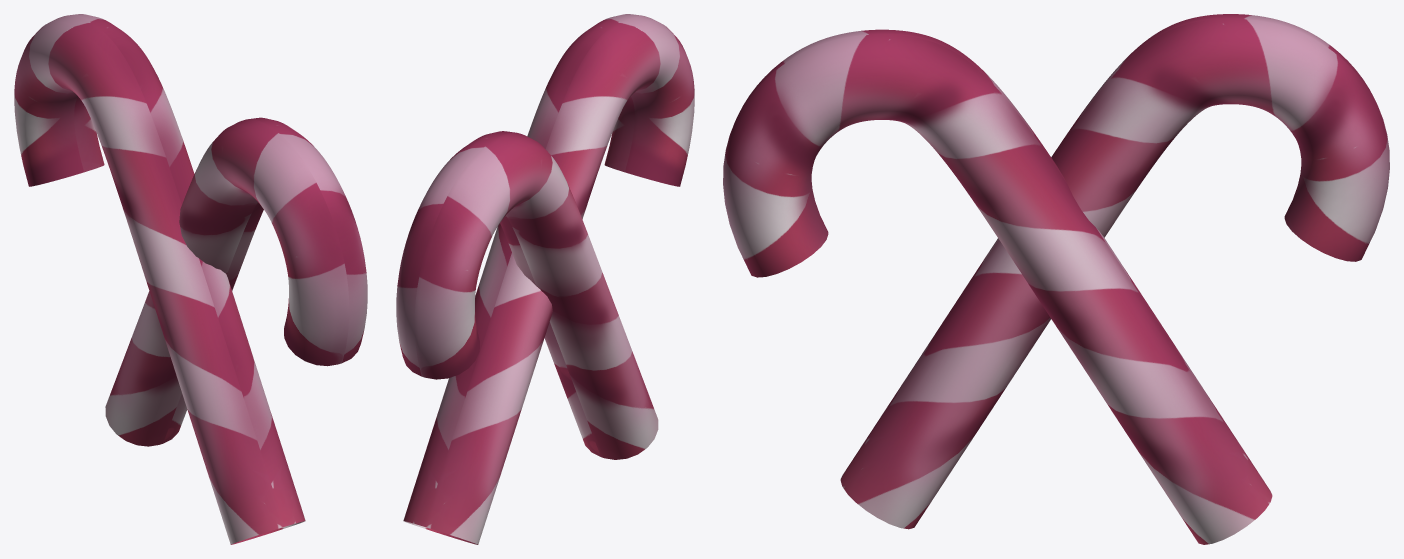
Rendered from candy cane.fbx.
3 views of the same model, side by side, from view 1: azimuth 30°, elevation 25°; view 2: azimuth 150°, elevation 25°; view 3: azimuth 270°, elevation 25° (orthographic). The views are drawn at different scales.
Parts seen in each view (by area): view 1: NurbsPath.001, NurbsPath; view 2: NurbsPath, NurbsPath.001; view 3: NurbsPath, NurbsPath.001.
Boxes of the visible parts, box(x1,y1,x2,y2) form: NurbsPath.001: box(14, 14, 305, 544); NurbsPath: box(105, 117, 367, 446); NurbsPath: box(403, 14, 694, 544); NurbsPath.001: box(396, 131, 658, 459); NurbsPath: box(723, 29, 1272, 544); NurbsPath.001: box(840, 14, 1389, 529).
Size of the model in its own units: 316 by 1082 by 1330.
